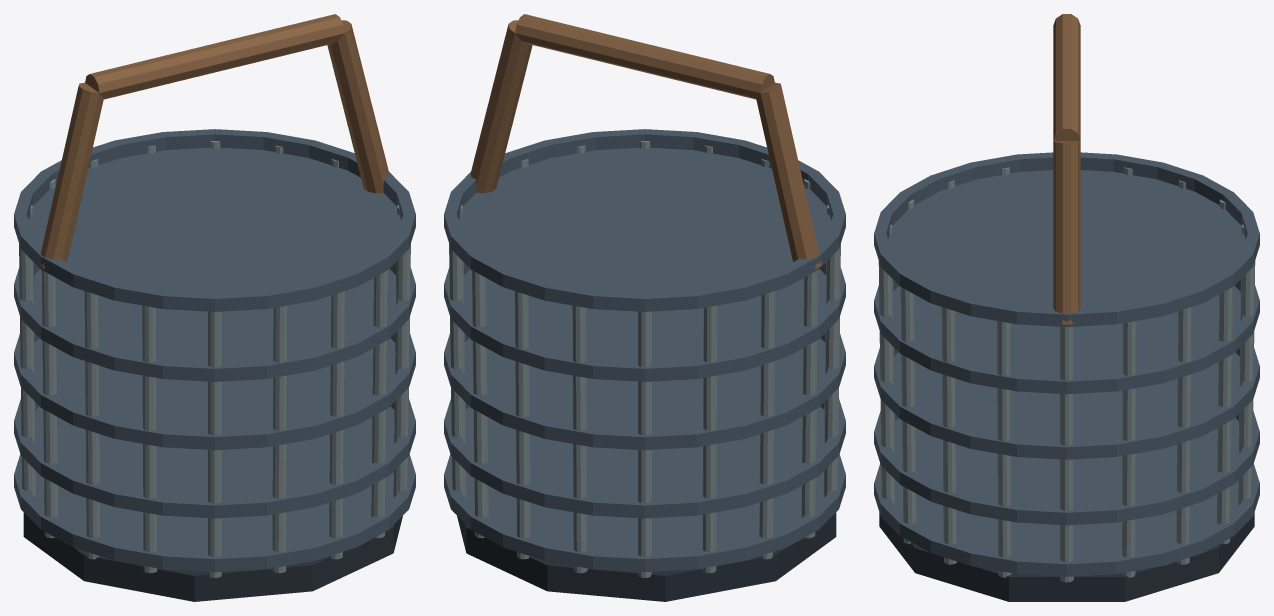
Rendered from R-17_strainer_basket.glb.
3 renders of one model, left to right at view 1: azimuth 30°, elevation 25°; view 2: azimuth 150°, elevation 25°; view 3: azimuth 270°, elevation 25°, orthographic. The views are drawn at different scales.
Parts seen in each view (by area): view 1: R-17_strainer_basket; view 2: R-17_strainer_basket; view 3: R-17_strainer_basket.
Part boxes in pixels (x1,y1,x2,y2): R-17_strainer_basket: (14, 14, 415, 601); R-17_strainer_basket: (444, 14, 845, 601); R-17_strainer_basket: (874, 14, 1259, 601).
Bounding box in the file's own units: 0.2248 × 0.2916 × 0.224.
